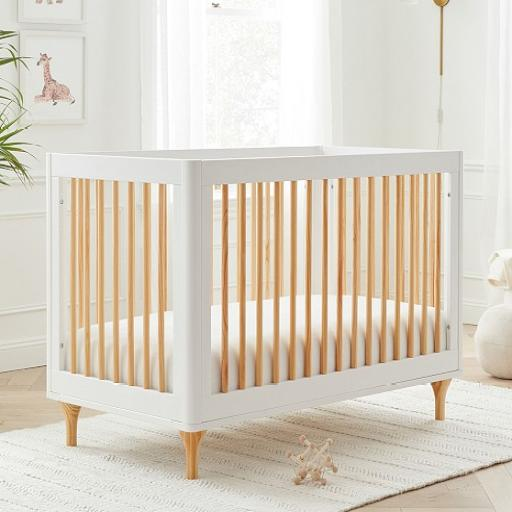crib: (48, 147, 463, 477)
